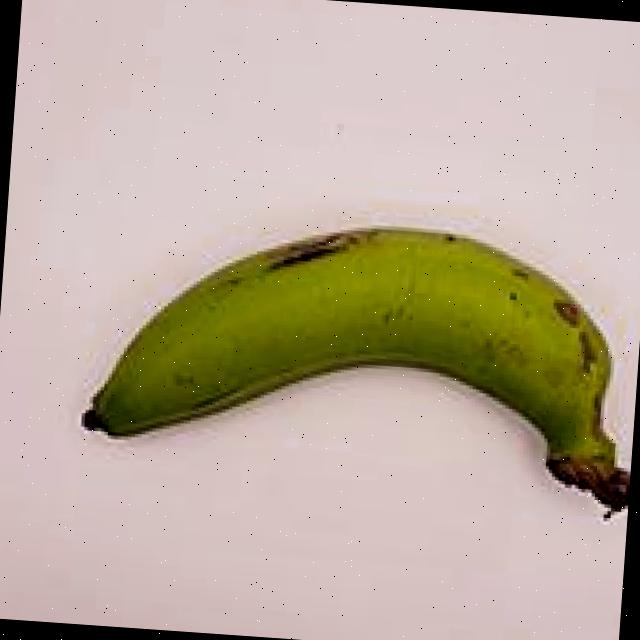Raw: (61, 170, 640, 542)
